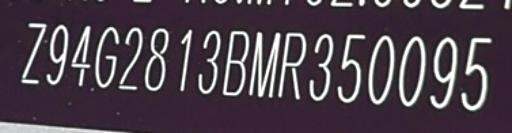letter: (460, 35, 492, 114), (247, 30, 283, 99), (275, 29, 307, 102), (335, 32, 367, 103), (366, 32, 396, 105), (398, 33, 426, 108), (429, 35, 457, 110), (308, 30, 336, 103), (222, 30, 250, 99), (19, 19, 47, 84), (94, 24, 120, 91), (144, 27, 170, 94), (196, 29, 222, 96), (44, 22, 70, 87), (118, 25, 144, 90), (70, 22, 94, 91), (176, 27, 194, 94)
